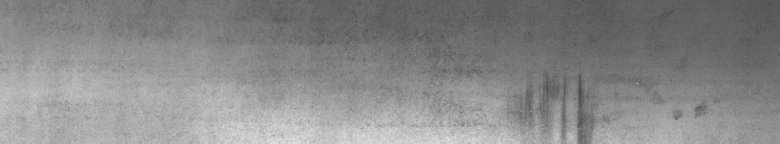ka: (412, 68, 608, 136)
